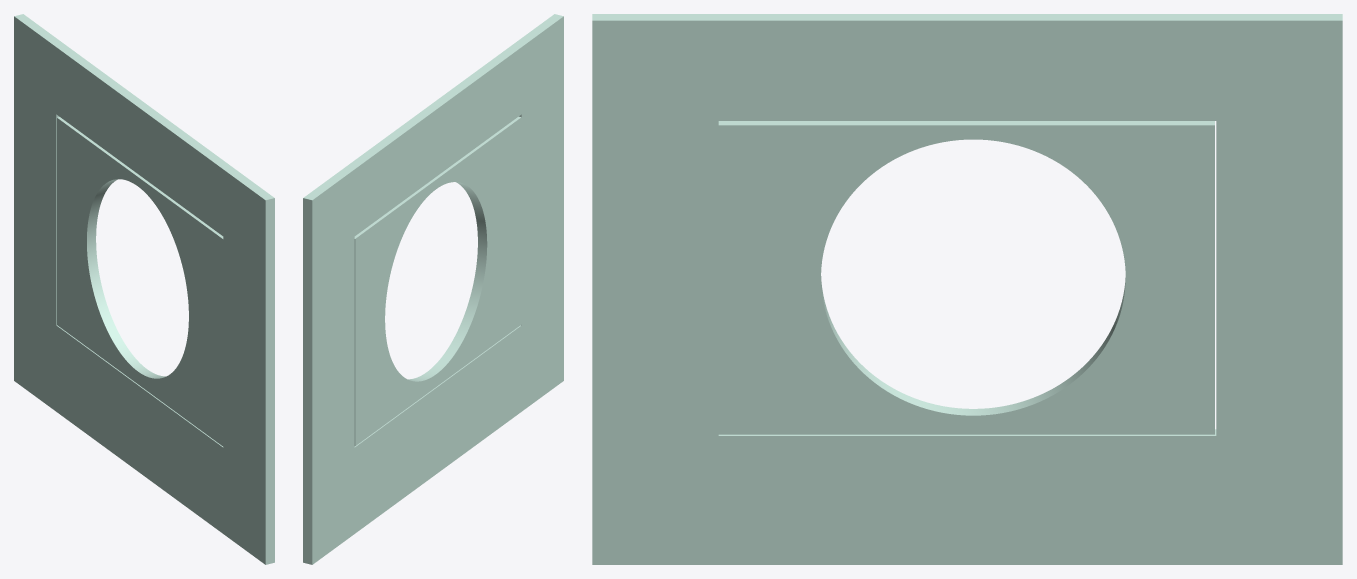
3 views of the same model, side by side, from view 1: azimuth 30°, elevation 25°; view 2: azimuth 150°, elevation 25°; view 3: azimuth 270°, elevation 25° (orthographic). The views are drawn at different scales.
Visible parts, largest first — view 1: Renderer Node; view 2: Renderer Node; view 3: Renderer Node.
Boxes of the visible parts, x1,y1,x2,y2 form: Renderer Node: [14, 14, 274, 564]; Renderer Node: [303, 14, 563, 564]; Renderer Node: [592, 14, 1342, 564].
Bounding box in the file's own units: 0.0313 × 1.18 × 1.47.
